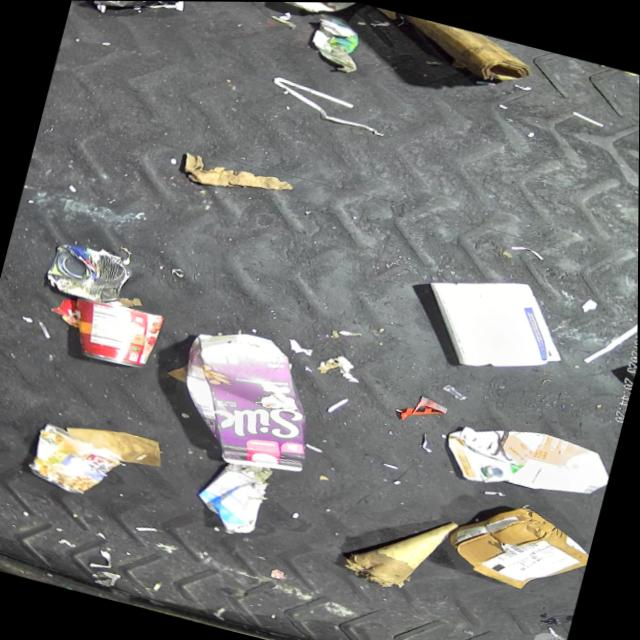can: (62, 293, 167, 373), (25, 420, 126, 503), (41, 236, 138, 309), (272, 2, 361, 21)
non_white_jug: (160, 320, 332, 480), (440, 411, 616, 514)
